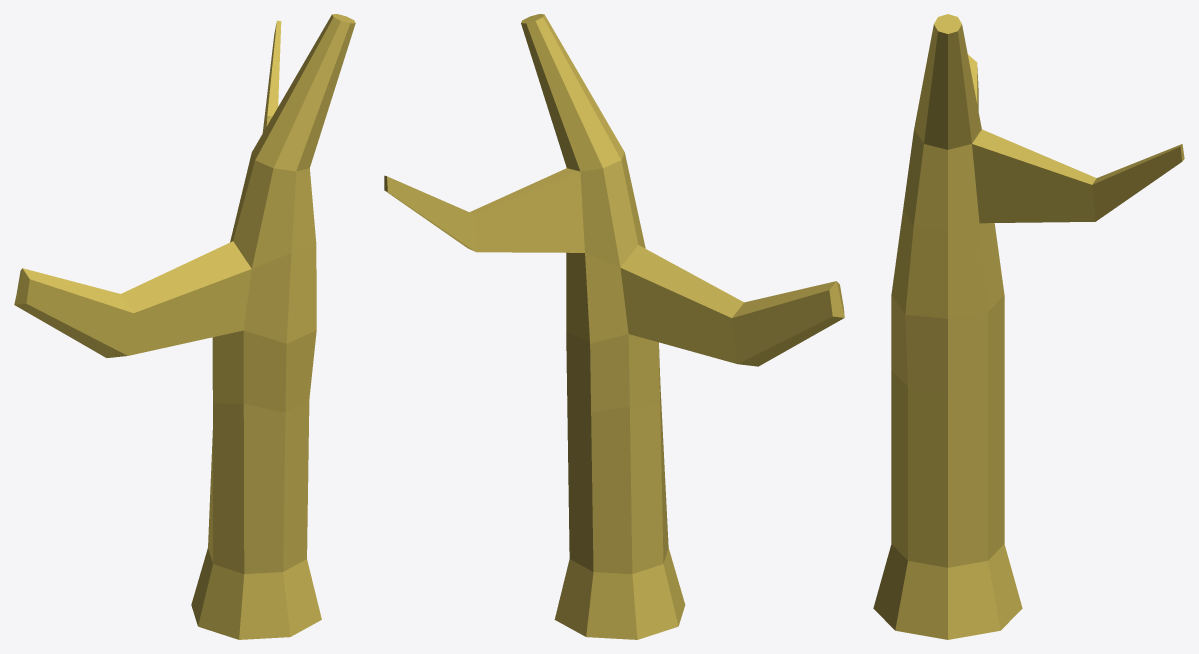
File: Tree3.fbx
3 renders of one model, left to right at view 1: azimuth 30°, elevation 25°; view 2: azimuth 150°, elevation 25°; view 3: azimuth 270°, elevation 25°, orthographic. The views are drawn at different scales.
Visible parts, largest first — view 1: Cylinder.001; view 2: Cylinder.001; view 3: Cylinder.001.
Boxes of the visible parts, left/top/right/bottom form: Cylinder.001: left=14, top=14, right=355, bottom=639; Cylinder.001: left=384, top=14, right=844, bottom=639; Cylinder.001: left=873, top=14, right=1184, bottom=639.
Size of the model in its own units: 32764 by 49626 by 22016.
